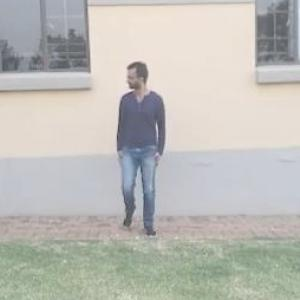follow: (114, 59, 166, 234)
